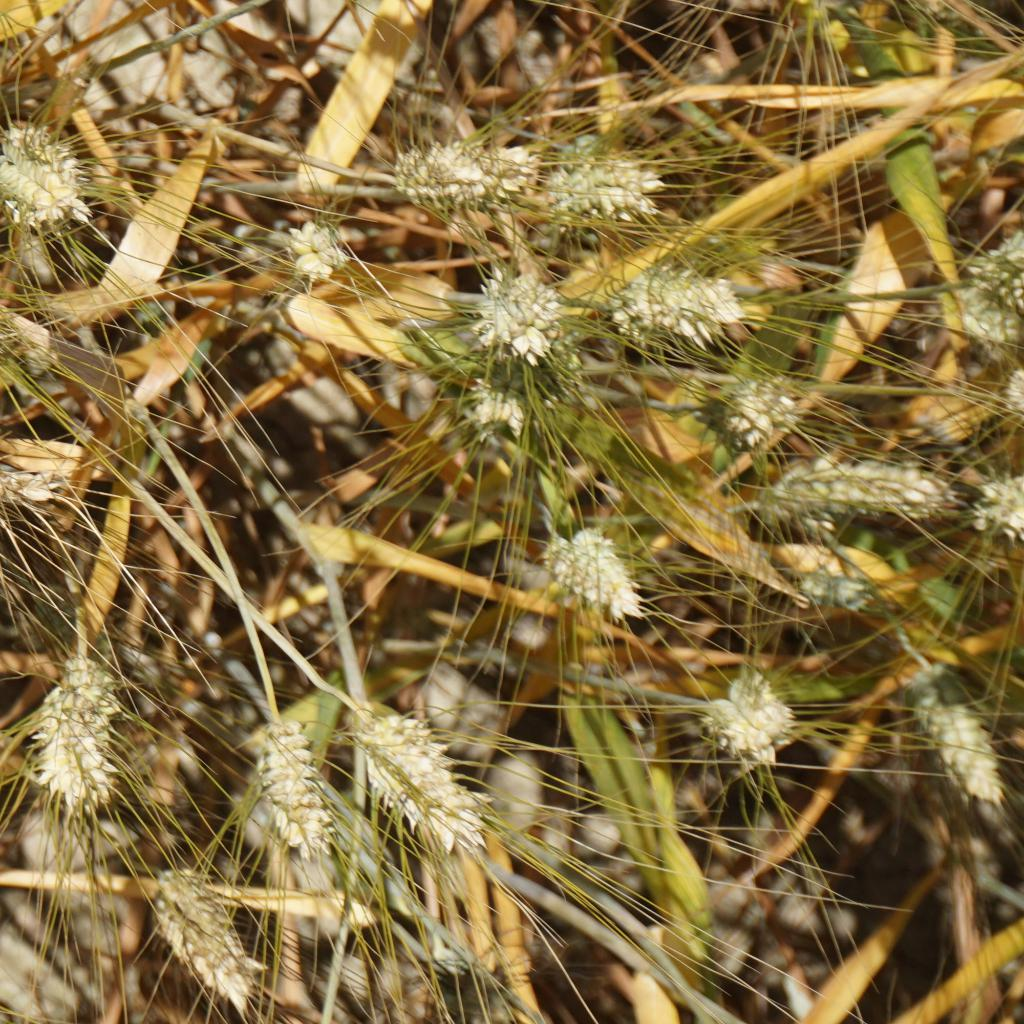0-0: (22, 649, 137, 820), (144, 862, 270, 1006), (778, 448, 969, 536), (369, 707, 484, 843), (915, 659, 1013, 805), (609, 260, 764, 335), (256, 721, 343, 852), (470, 252, 576, 356), (545, 519, 644, 623), (0, 132, 93, 238), (537, 150, 657, 224), (707, 656, 788, 750), (257, 214, 353, 290), (408, 132, 510, 200), (450, 376, 548, 444), (707, 382, 799, 442), (953, 284, 1024, 360), (0, 391, 33, 518), (798, 557, 878, 608), (972, 466, 1024, 535), (972, 236, 1024, 288)
